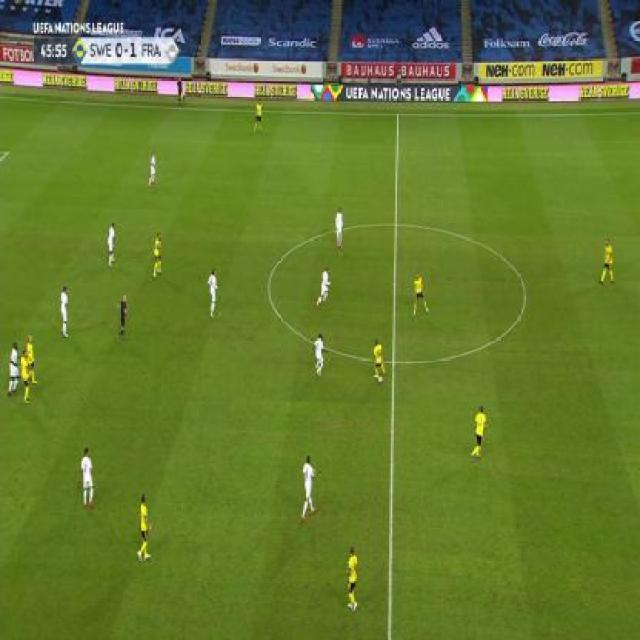ball: (379, 374, 384, 385)
player: (299, 454, 319, 522), (135, 493, 154, 562), (78, 446, 97, 509), (469, 404, 489, 461), (345, 544, 361, 613), (6, 340, 23, 397), (411, 271, 430, 317), (599, 237, 616, 286), (371, 337, 387, 385), (58, 283, 71, 339), (311, 332, 327, 377), (315, 266, 332, 308), (206, 267, 220, 318), (18, 350, 31, 403), (116, 292, 129, 343), (106, 221, 119, 267), (152, 230, 163, 278), (334, 206, 345, 249), (27, 331, 36, 382), (253, 99, 264, 133), (148, 150, 157, 189), (176, 77, 187, 106)
